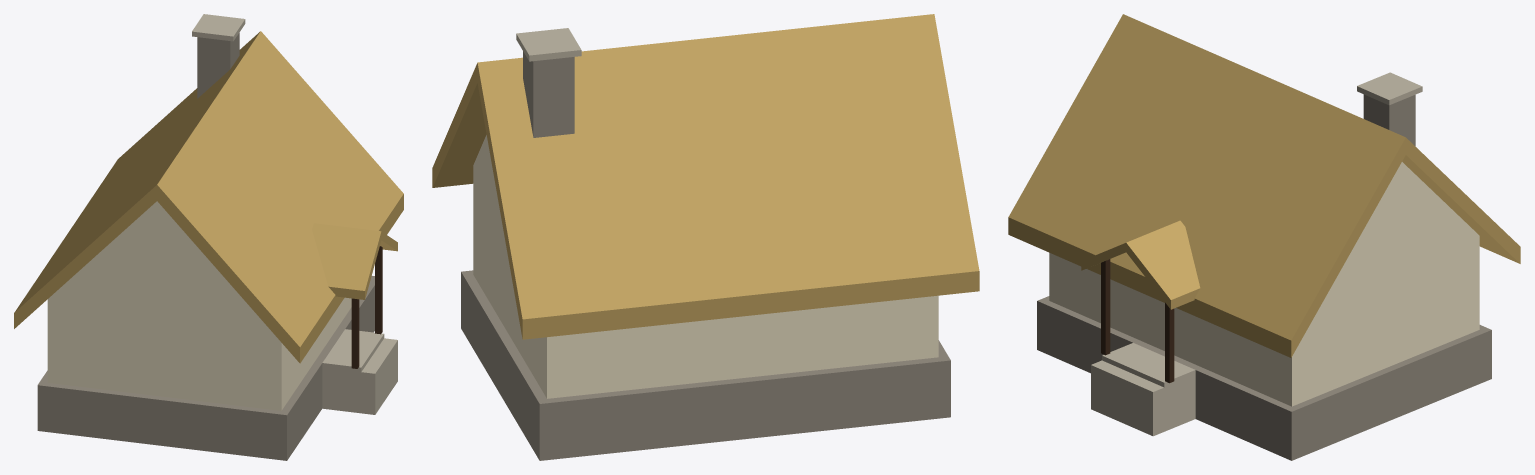
File: SM_WillowPond_House1.fbx
3 views of the same model, side by side, from view 1: azimuth 30°, elevation 25°; view 2: azimuth 150°, elevation 25°; view 3: azimuth 270°, elevation 25° (orthographic). The views are drawn at different scales.
Visible parts, largest first — view 1: SM_WillowPond_House1; view 2: SM_WillowPond_House1; view 3: SM_WillowPond_House1.
Part boxes in pixels (box(x1,y1,x2,y2)): SM_WillowPond_House1: box(14, 14, 403, 460); SM_WillowPond_House1: box(432, 14, 979, 460); SM_WillowPond_House1: box(1008, 14, 1520, 460).
Size of the model in its own units: 10.63 by 7.16 by 10.59.
